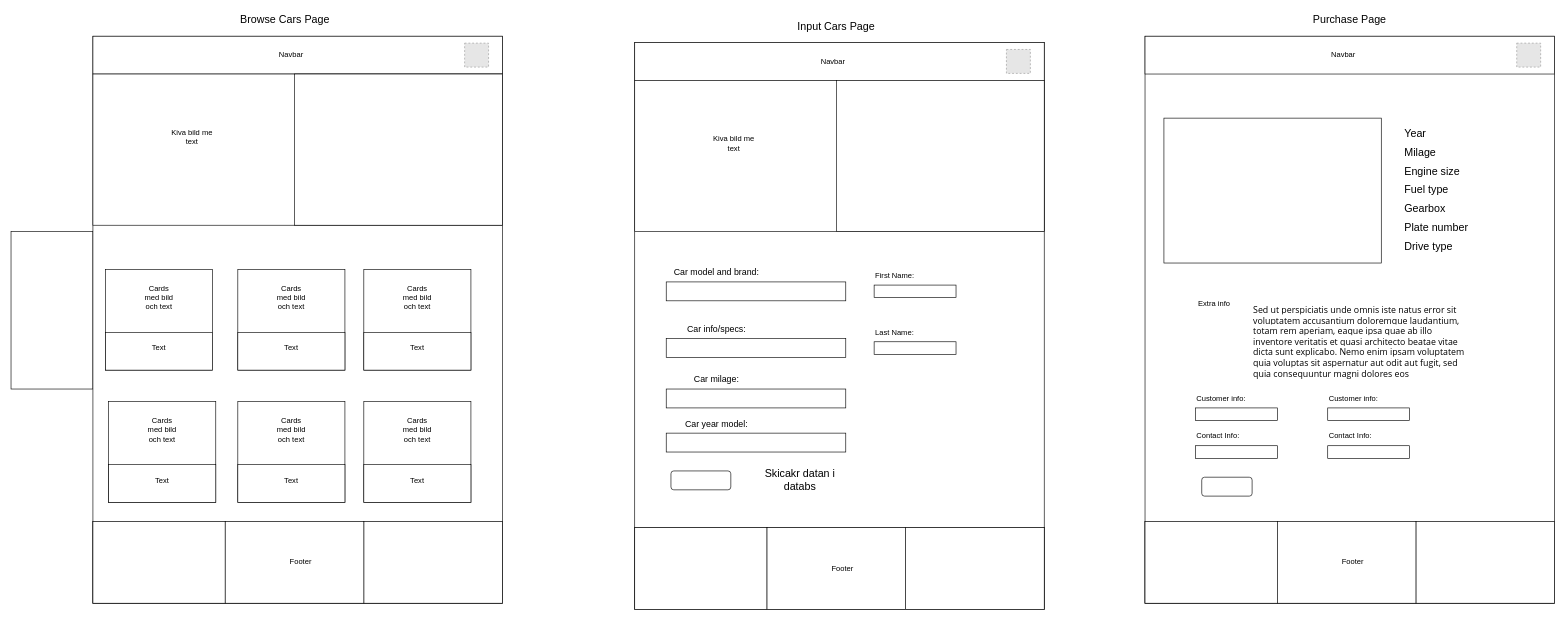
The diagram is 1566 pixels wide and 621 high, and some of its shapes have lost their labels. Grey dashed boxes stand in for pictures. The box of each missing label's shape, as (x1, y1, x2, y2) in pixels:
Filternings menu (onclick): (10, 231, 93, 389)
Reserve: (1201, 477, 1252, 496)
Upload: (670, 470, 731, 490)
